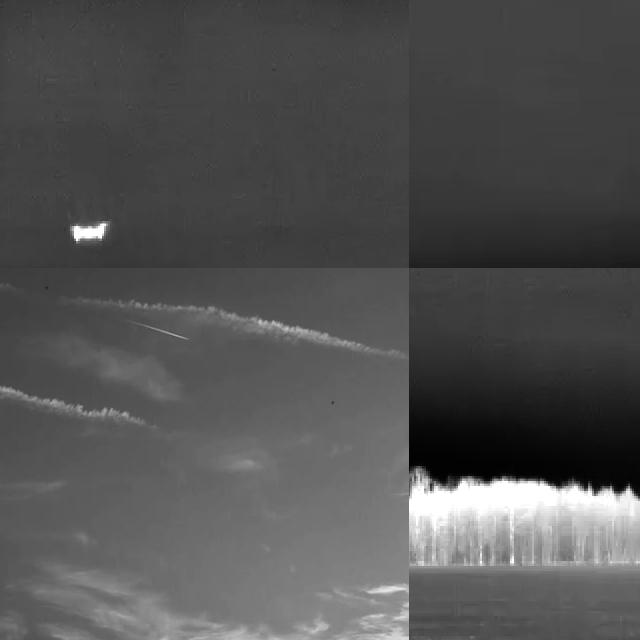1: (57, 218, 117, 252)
drone: (325, 388, 339, 412), (39, 278, 52, 296)
